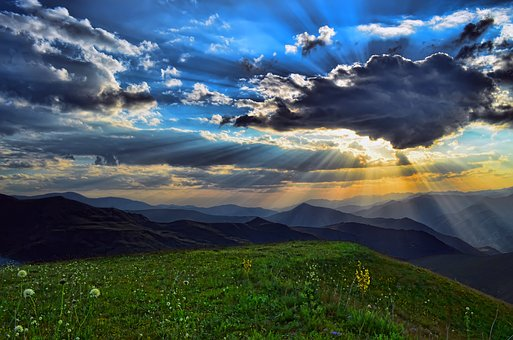field: (10, 248, 499, 339)
mountain: (14, 194, 513, 258)
sky: (5, 3, 513, 207)
